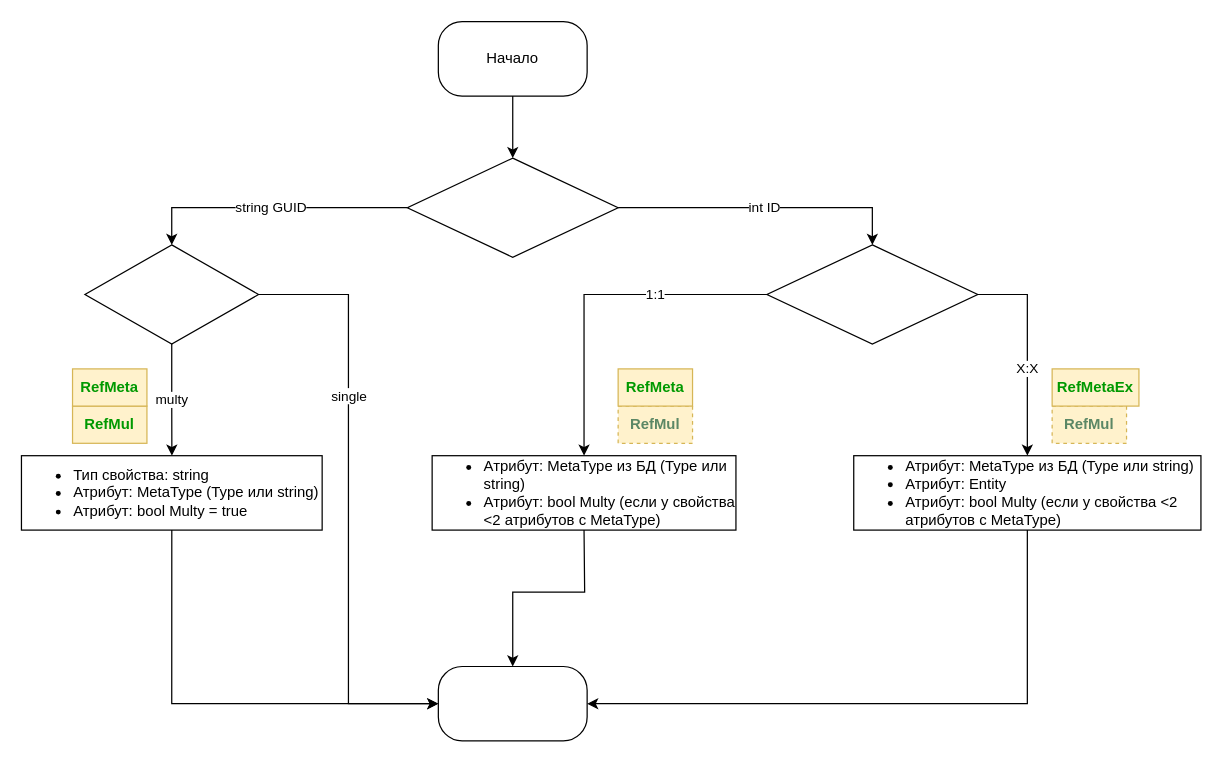
Some shapes in this 1224 by 763 pixel diagram are drawn without their labels. The centre of each missing label's shape, as x and y in pixels:
"Meta type:" belongs at point 171,294.
"Конец" belongs at point 512,703.
"Отношение Entity к Meta:" belongs at point 872,294.
"Тип значения ссылочного свойства:" belongs at point 512,207.
